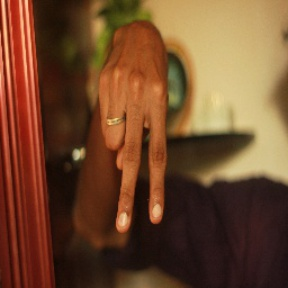Y: (85, 58, 181, 235)
